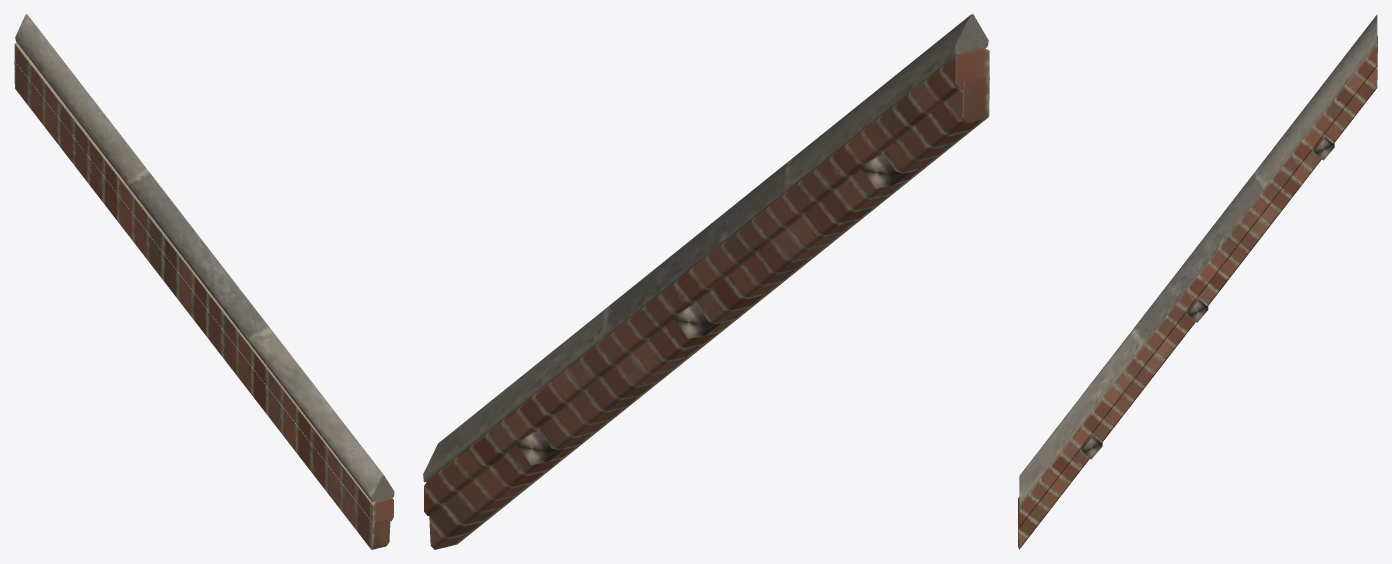
Rendered from roof.triangle.brick.up.right.line.glb.
3 views of the same model, side by side, from view 1: azimuth 30°, elevation 25°; view 2: azimuth 210°, elevation 25°; view 3: azimuth 270°, elevation 25° (orthographic). The views are drawn at different scales.
Parts seen in each view (by area): view 1: model; view 2: model; view 3: model.
Part boxes in pixels (bbox=[...]): model: bbox=[14, 14, 394, 549]; model: bbox=[423, 14, 989, 549]; model: bbox=[1018, 14, 1377, 549].
Bounding box in the file's own units: 1.69 × 3.57 × 2.61.
1 material, 1 textured.
